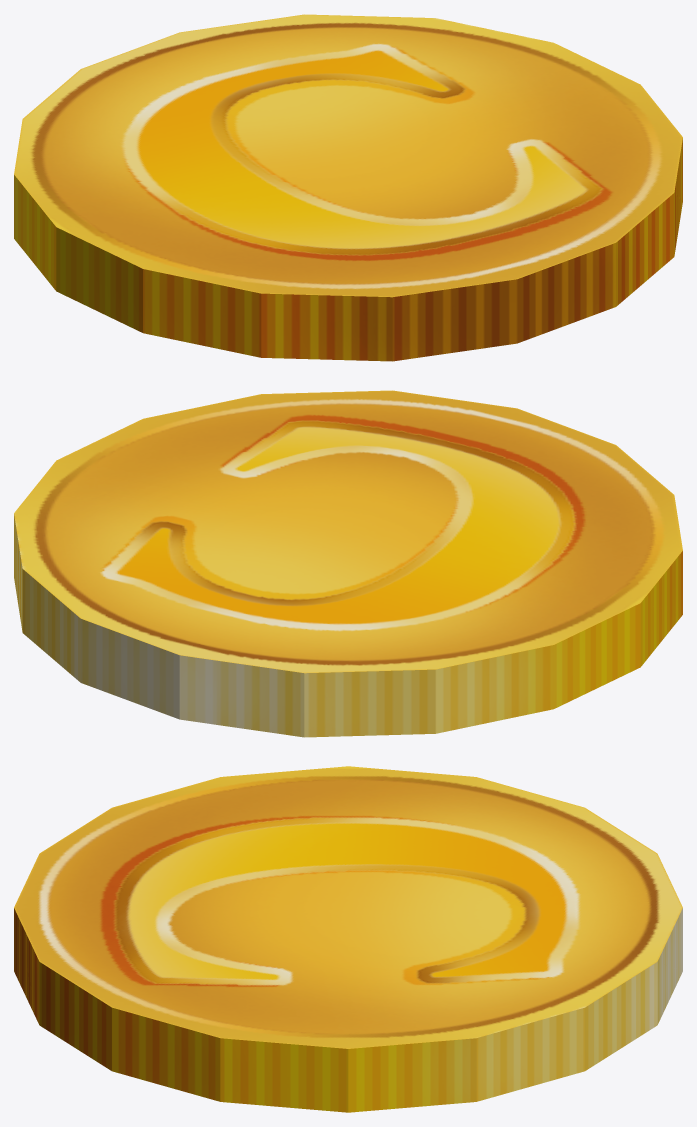
The model's file is coin.glb.
3 views of the same model, one above another, from view 1: azimuth 30°, elevation 25°; view 2: azimuth 150°, elevation 25°; view 3: azimuth 270°, elevation 25° (orthographic).
Parts seen in each view (by area): view 1: Sphere; view 2: Sphere; view 3: Sphere.
Part boxes in pixels (x1,y1,x2,y2): Sphere: (14,14,682,361); Sphere: (14,390,682,737); Sphere: (14,766,682,1112).
Size of the model in its own units: 0.5967 by 0.0627 by 0.5967.
1 material, 1 textured.
